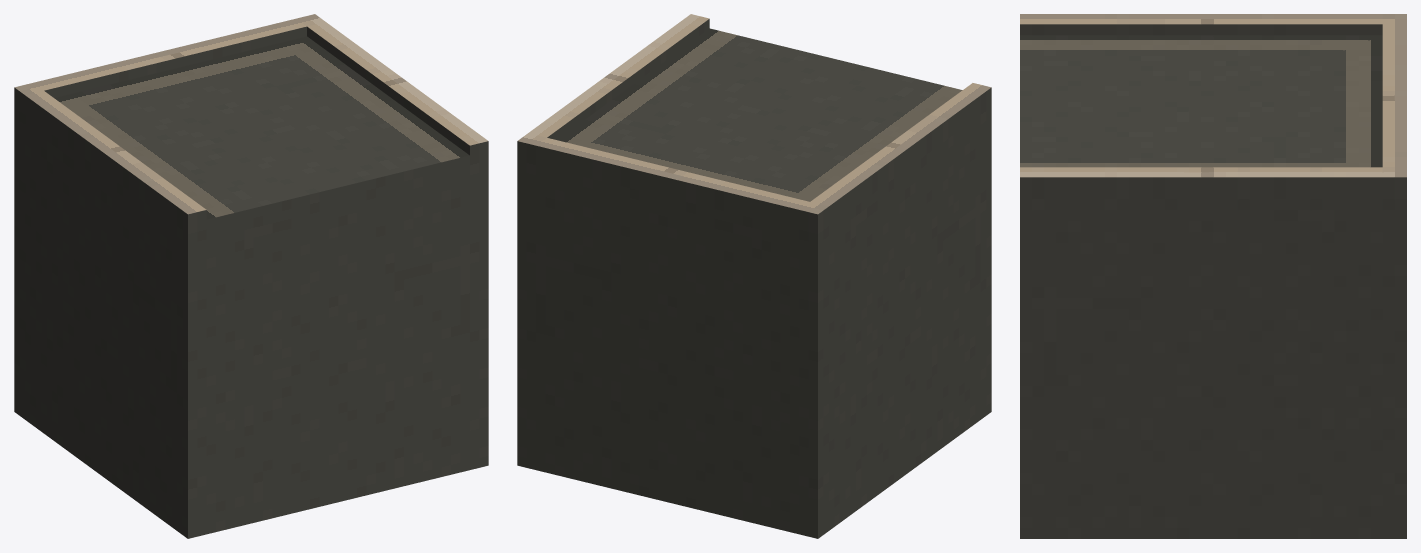
Rendered from road_asphalt_to_sidewalk_end.gltf.
The picture shows the model from 3 angles, left to right: view 1: azimuth 30°, elevation 25°; view 2: azimuth 150°, elevation 25°; view 3: azimuth 270°, elevation 25°; orthographic projection. The views are drawn at different scales.
Visible parts, largest first — view 1: block_sides, transition_top; view 2: block_sides, transition_top; view 3: block_sides, transition_top.
Boxes of the visible parts, x1,y1,x2,y2 form: block_sides: (14,26,488,538); transition_top: (15,14,487,219); block_sides: (517,19,991,538); transition_top: (518,14,990,214); block_sides: (1020,24,1406,538); transition_top: (1020,14,1406,177).
Size of the model in its own units: 2 by 2.06 by 2.
2 materials, 2 textured.
